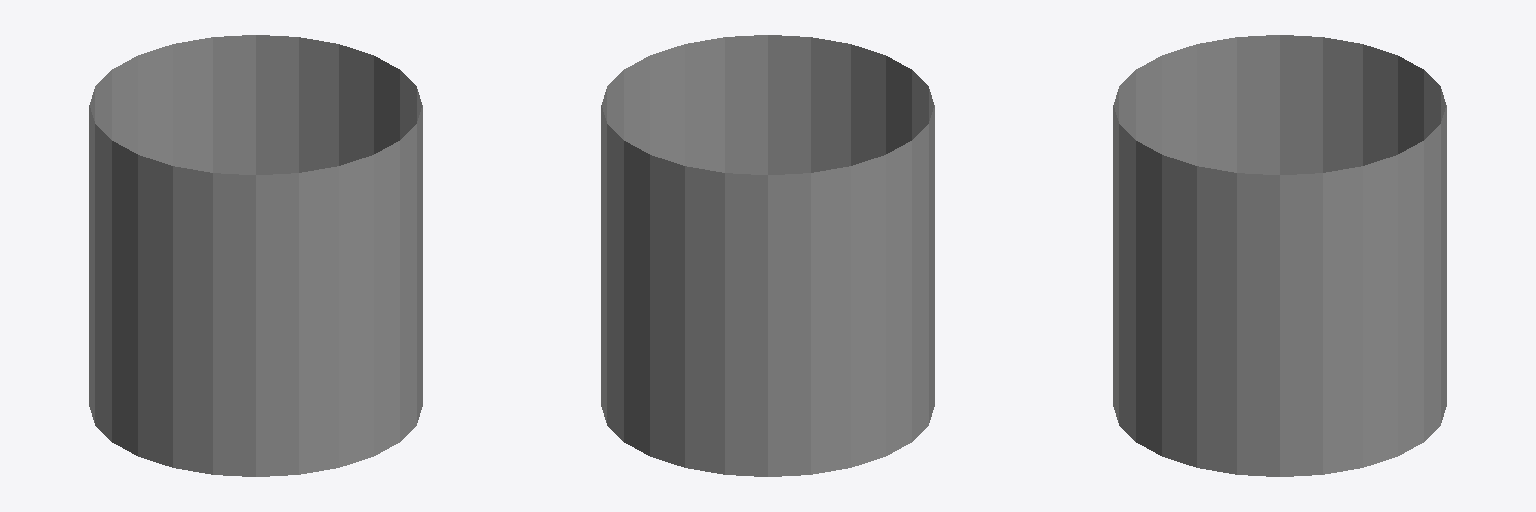
File: background.obj
3 renders of one model, left to right at view 1: azimuth 30°, elevation 25°; view 2: azimuth 150°, elevation 25°; view 3: azimuth 270°, elevation 25°, orthographic.
Parts seen in each view (by area): view 1: Merged_Meshes; view 2: Merged_Meshes; view 3: Merged_Meshes.
Boxes of the visible parts, x1=… form: Merged_Meshes: x1=89, y1=35, x2=422, y2=476; Merged_Meshes: x1=601, y1=35, x2=934, y2=476; Merged_Meshes: x1=1113, y1=35, x2=1446, y2=476.
Bounding box in the file's own units: 1 × 1 × 1.